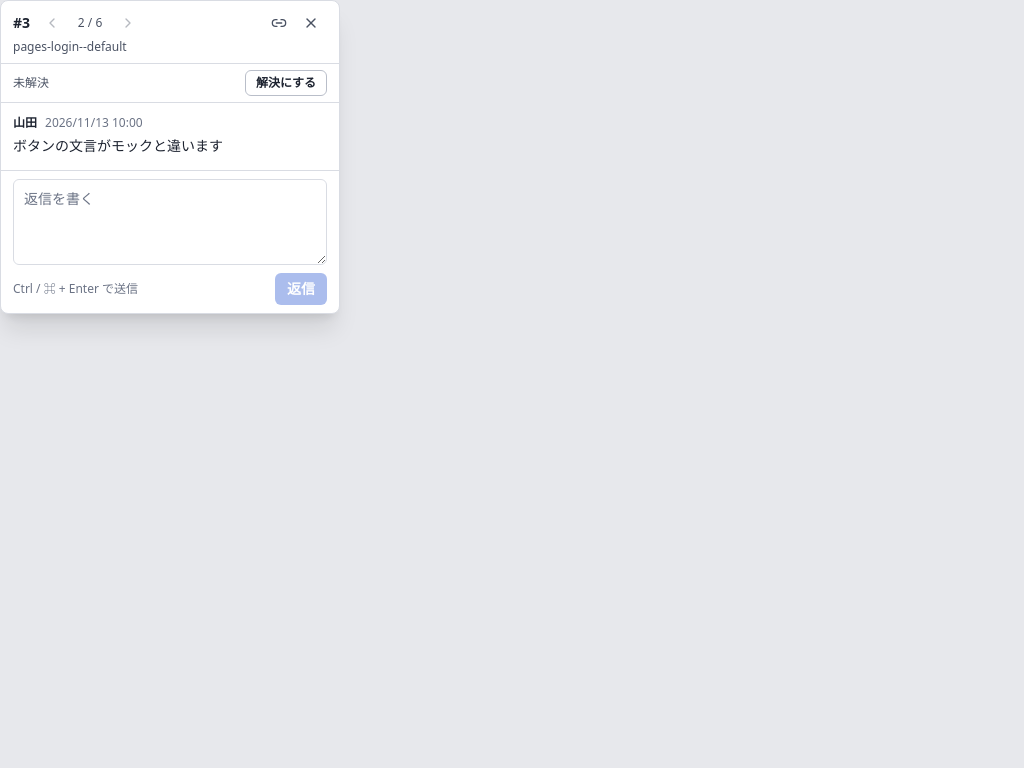
Scenario: ThreadPopover › [異常系]解決にできなかったときは、理由を吹き出しの中に残す
Click the button "解決にする".
click(286, 83)  # box x1=245 y1=70 x2=327 y2=96
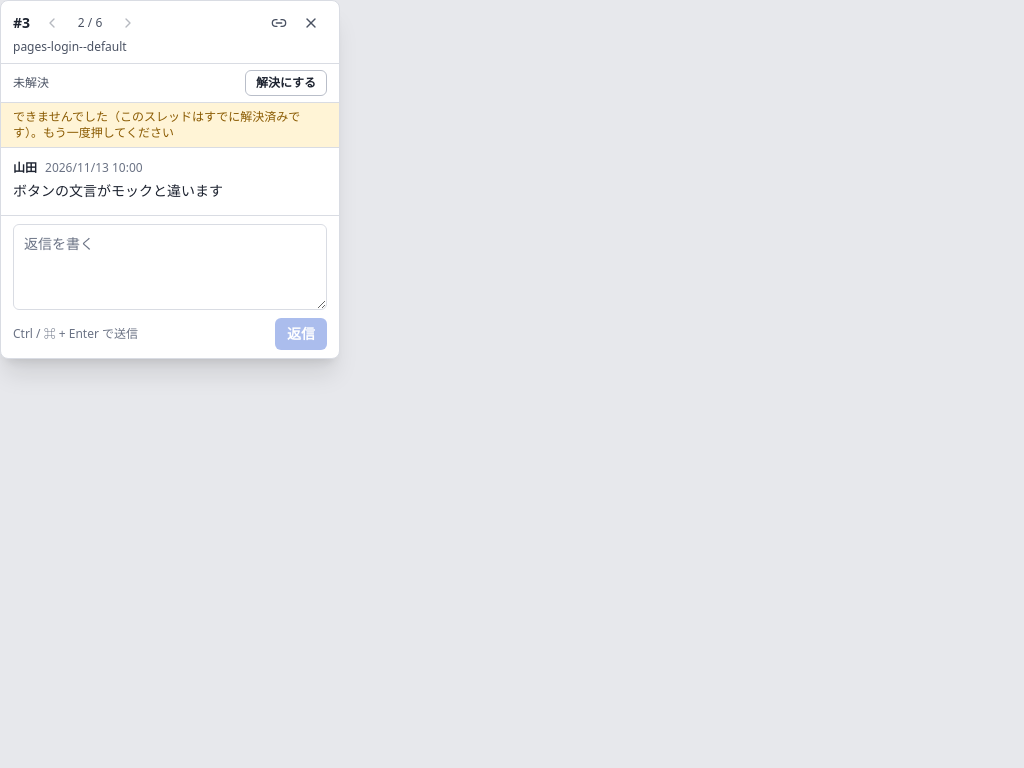
Result: the message shows "このスレッドはすでに解決済みです" at x1=13 y1=108 x2=300 y2=141
